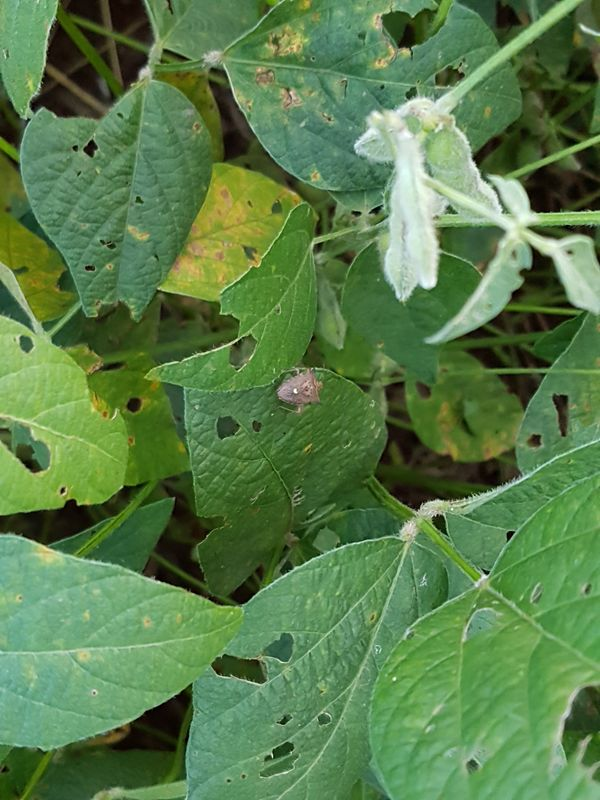Euschistus_heros_adulto: (264, 360, 330, 419)
